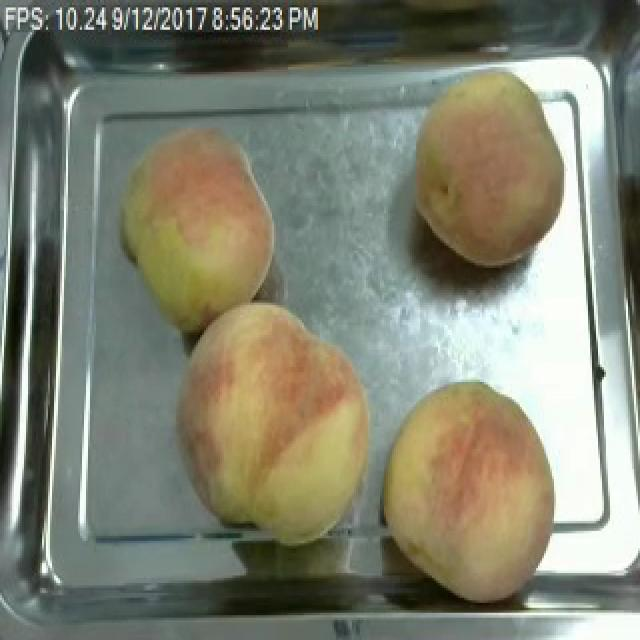Fruit: (168, 292, 384, 550), (370, 370, 566, 612), (110, 114, 286, 342), (404, 59, 578, 276)
